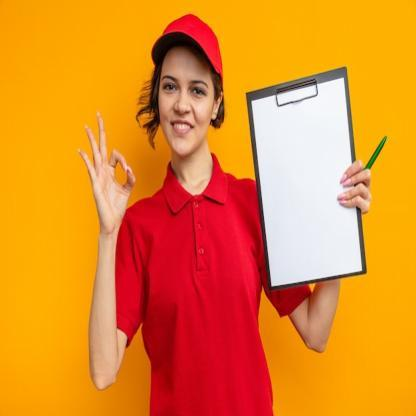ok: (78, 113, 139, 231)
